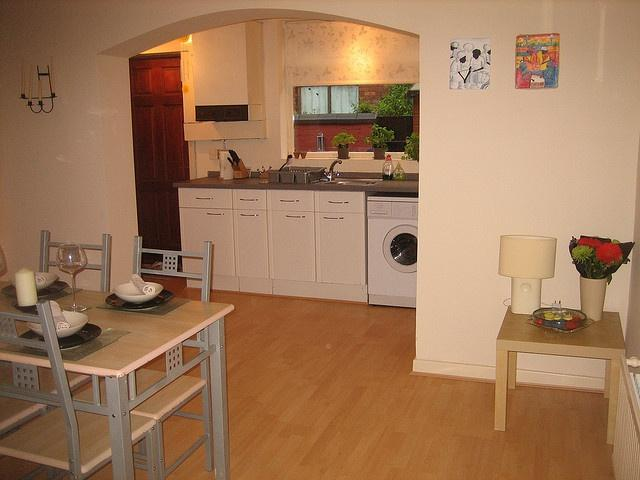Kursi: (0, 298, 159, 479)
Meja: (0, 280, 235, 413), (494, 305, 626, 433)
